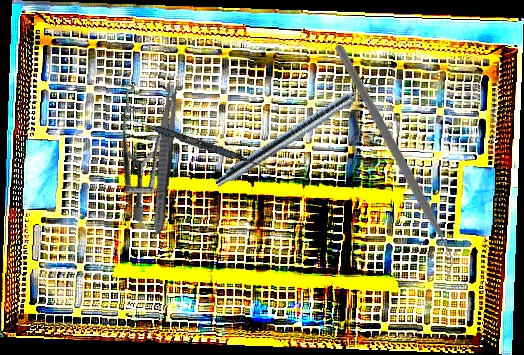Chopper: (262, 43, 523, 282)
Dressing Forceps: (150, 79, 180, 235)
Handpiece: (212, 73, 384, 193)
Spatula Surgical: (117, 112, 270, 171)
Speculum: (61, 61, 220, 225)
